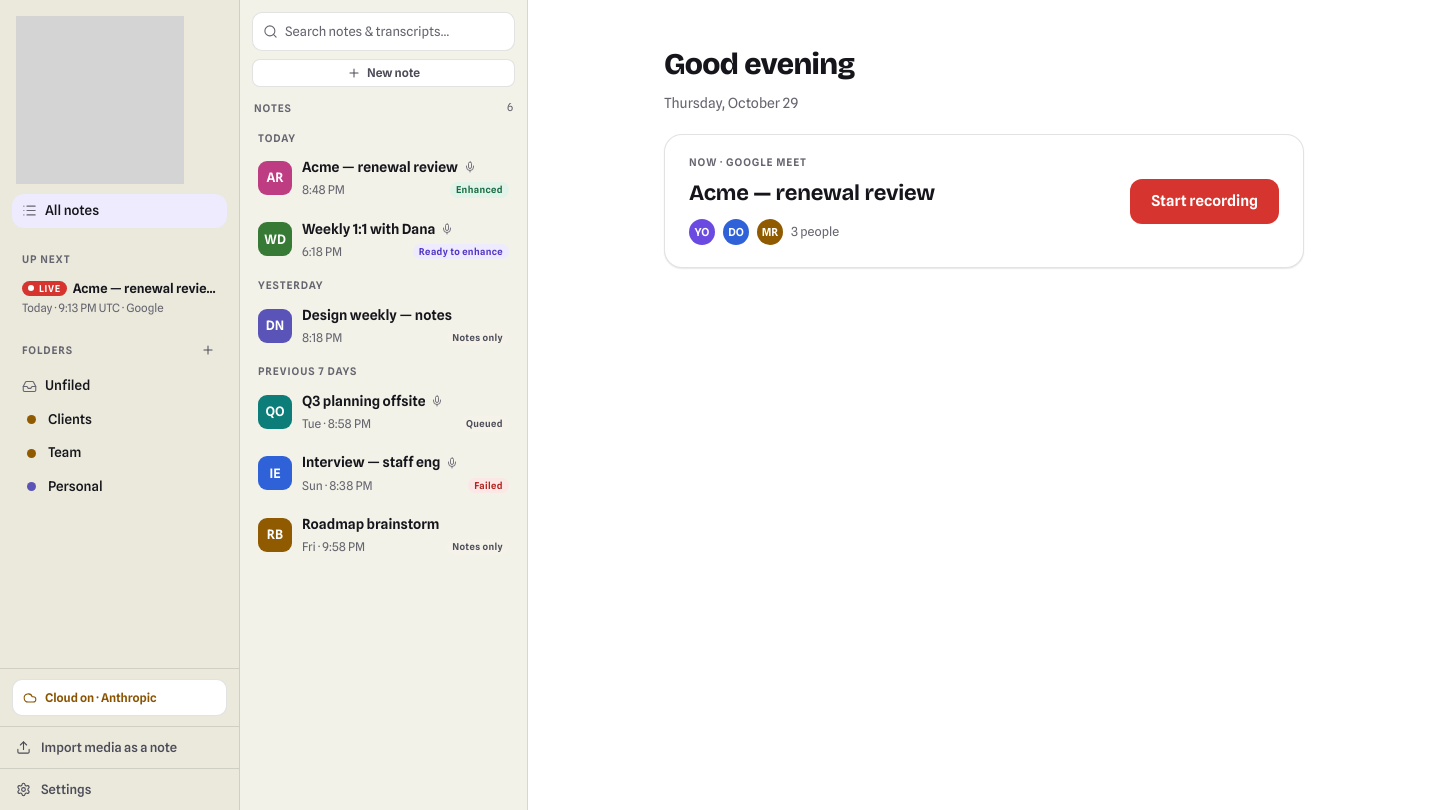
App: an import whose run failed after Transcribe › shows the cause and Retry when you come back to the note
Click the button "Import media as a note" at point(120, 747), box [0, 726, 239, 768]
Wait 100 ms
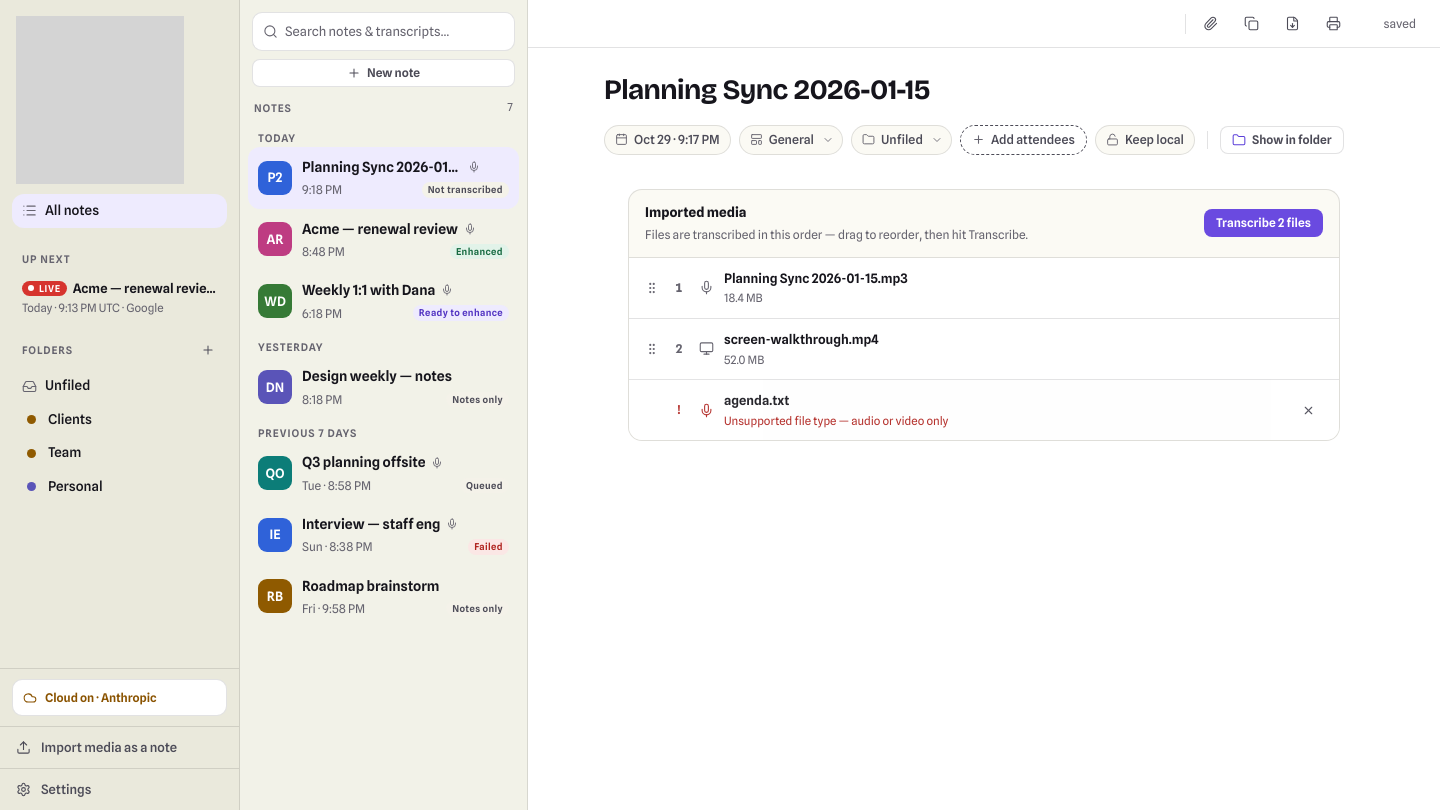
Click the button "Transcribe 2 files" at point(1263, 223), box [1204, 209, 1323, 237]
Wait 16000 ms
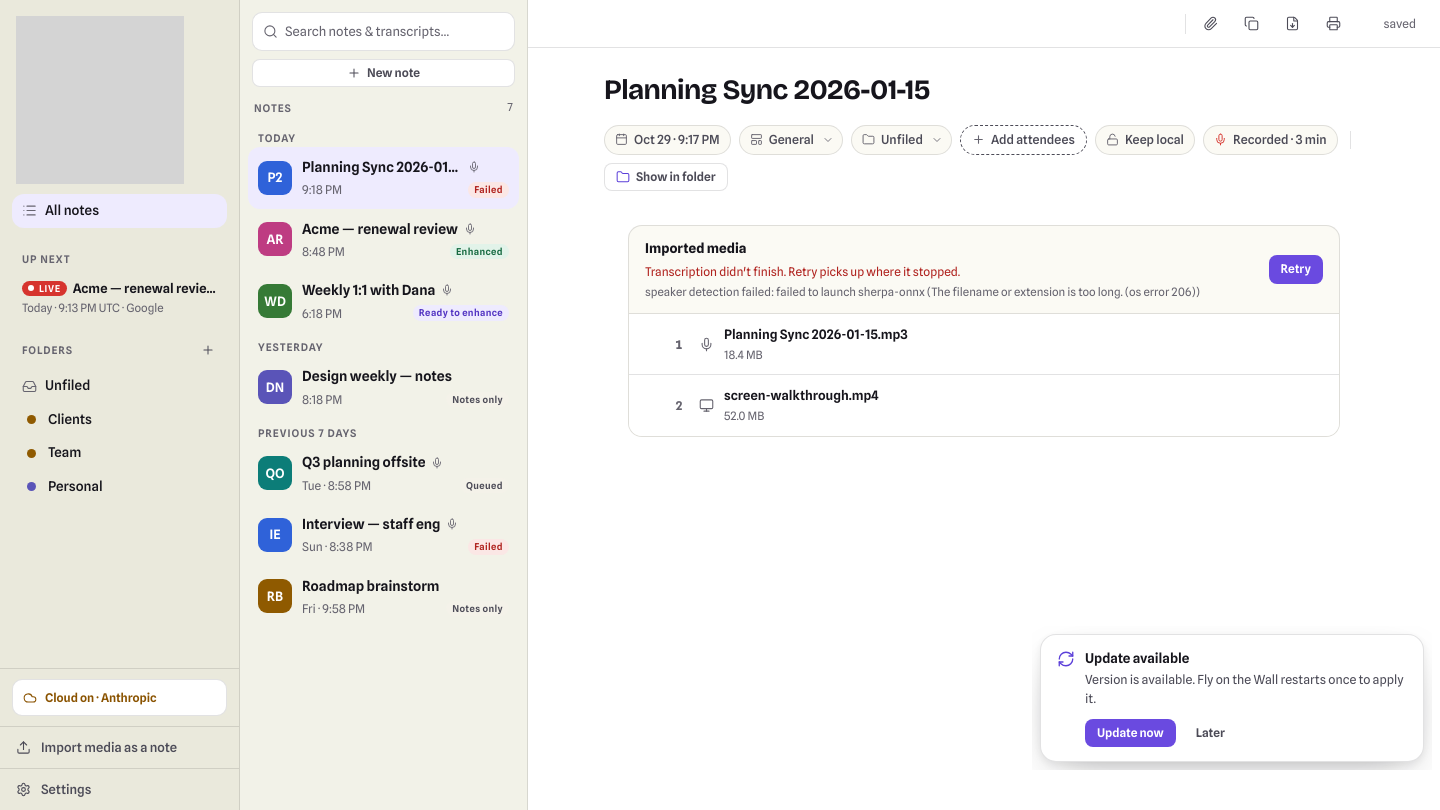
Expected: the text "failed to launch sherpa-onnx" is shown, [645, 285, 1200, 299]
Click the element showing "DN Design weekly — notes 8:18 PM Notes only" at point(384, 387), box [248, 356, 519, 418]
Wait 100 ms
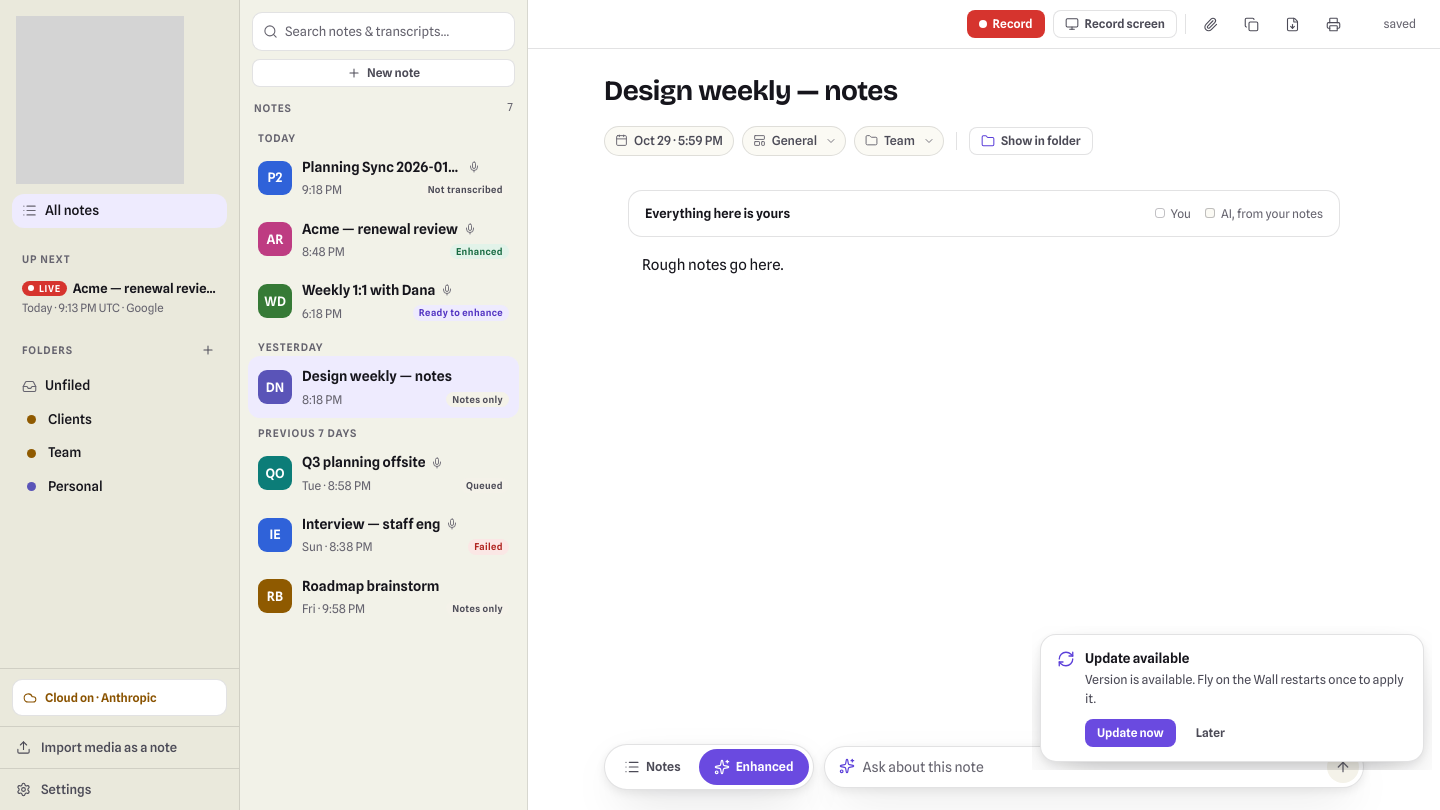
Click the element showing "P2 Planning Sync 2026-01-15 9:18 PM Not transcribed" at point(384, 178), box [248, 147, 519, 209]
Wait 100 ms
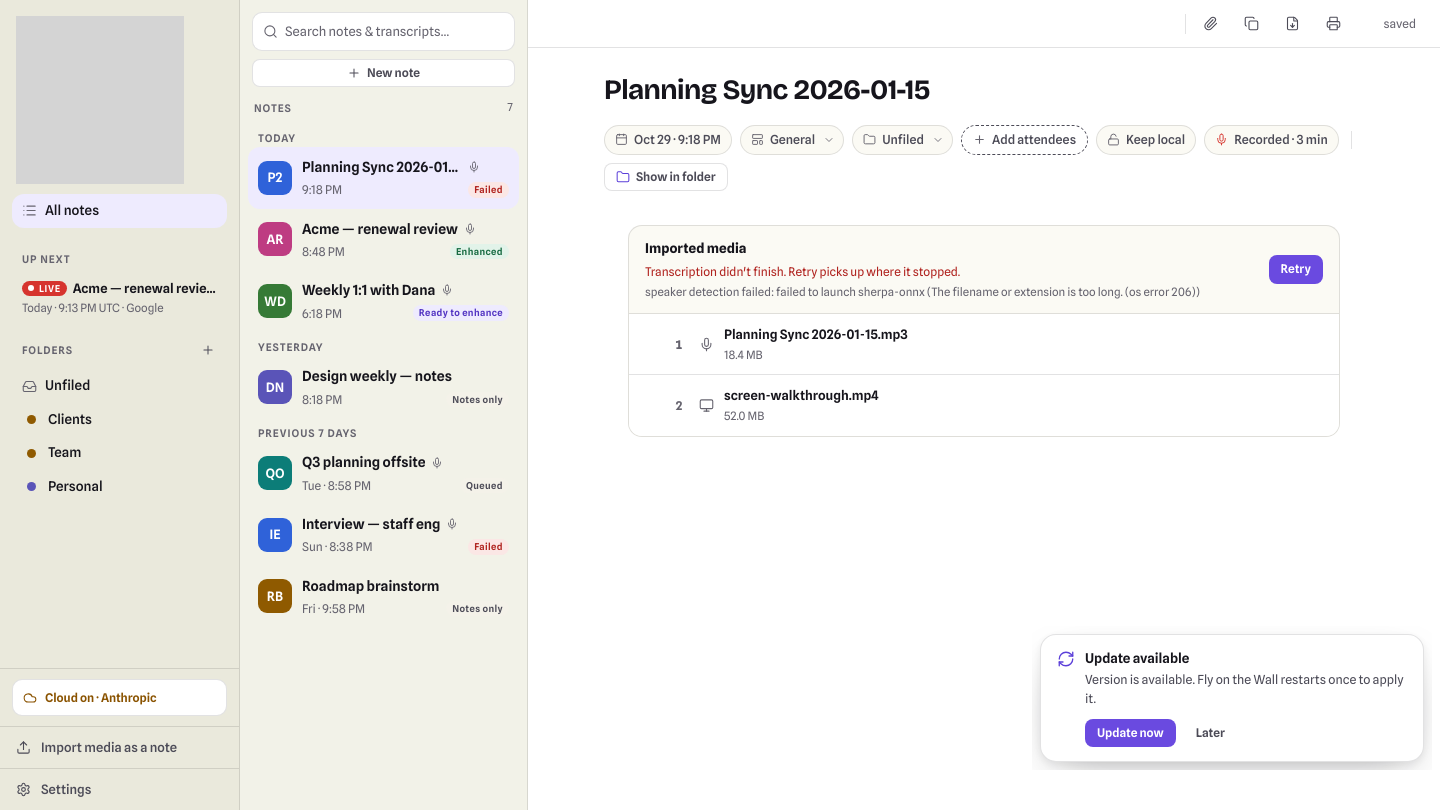
Expected: the text "failed to launch sherpa-onnx" is shown, [645, 285, 1200, 299]
Expected: the button "Retry" is shown
Click the button "Retry" at point(1296, 270), box [1269, 256, 1323, 284]
Wait 5000 ms
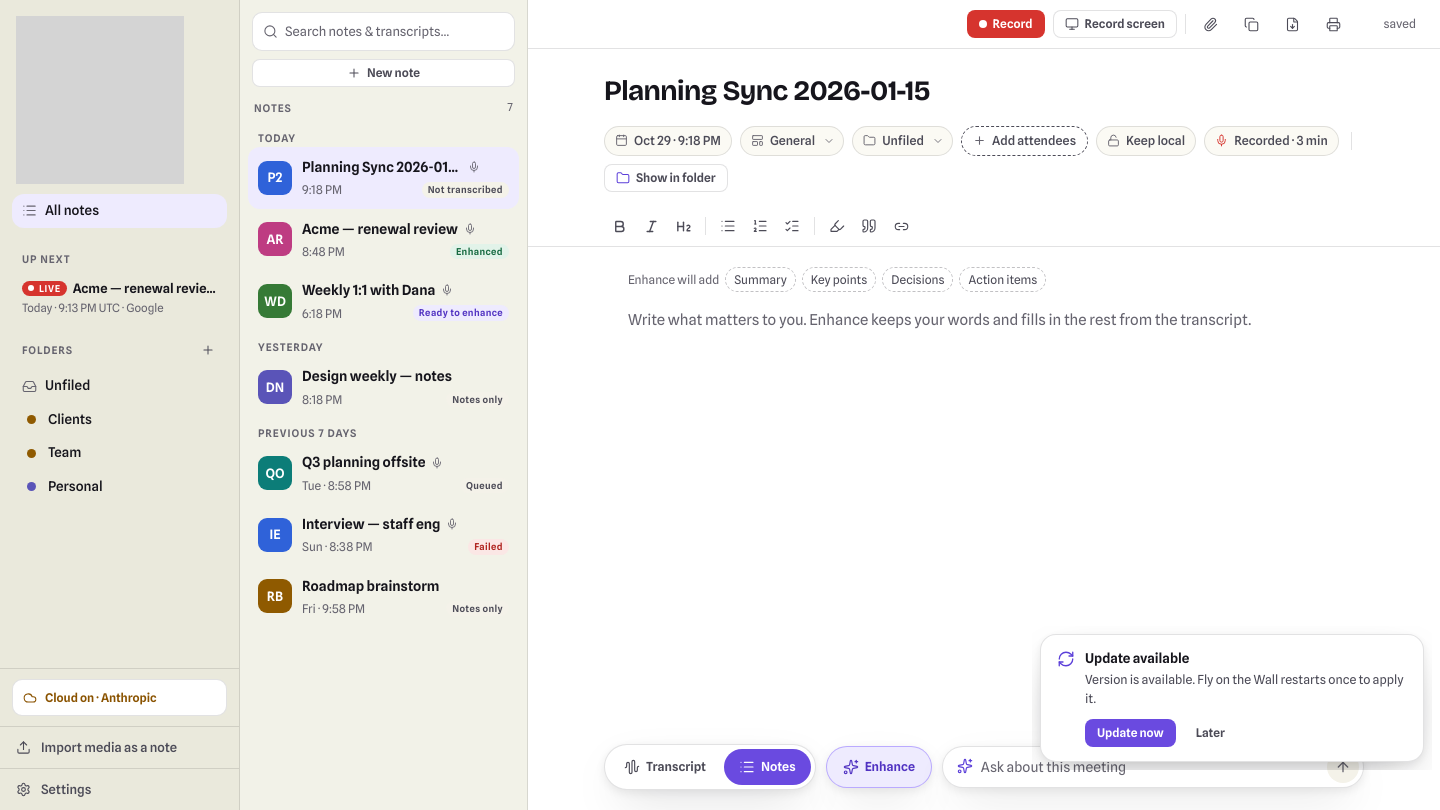
Expected: the text "failed to launch sherpa-onnx" is gone
Expected: the text "Imported media" is gone
